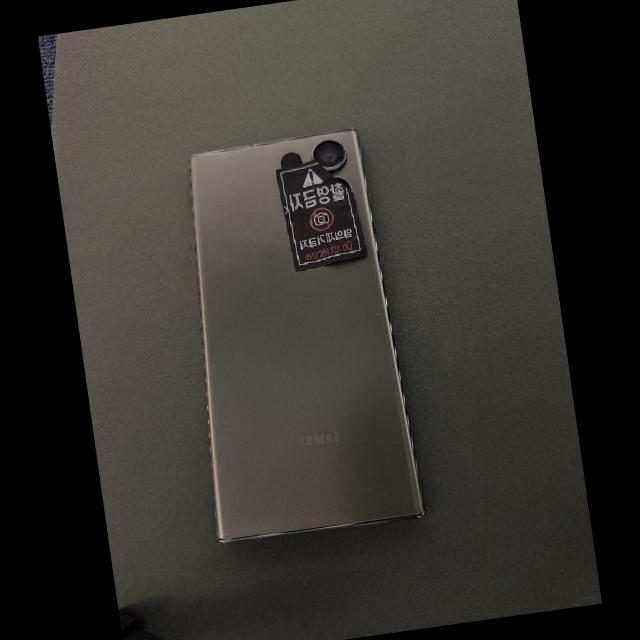lens: (313, 140, 344, 171), (280, 153, 301, 169), (337, 176, 353, 193)
phone: (189, 129, 425, 543)
sticker: (276, 160, 368, 272)
